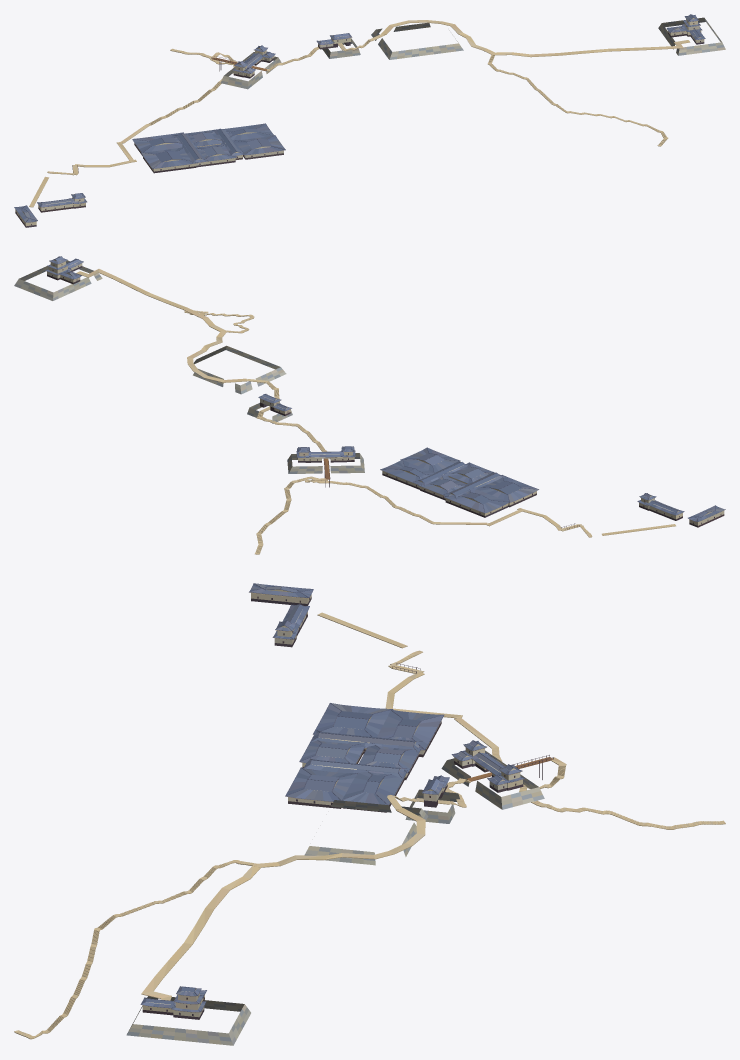
The model's file is ART_HikoneCompound.lod.glb.
3 renders of one model, top to bottom at view 1: azimuth 30°, elevation 25°; view 2: azimuth 150°, elevation 25°; view 3: azimuth 270°, elevation 25°, orthographic. The views are drawn at different scales.
Parts seen in each view (by area): view 1: ART_HikoneCompound; view 2: ART_HikoneCompound; view 3: ART_HikoneCompound.
Boxes of the visible parts, box(x1,y1,x2,y2) form: ART_HikoneCompound: box(14, 14, 725, 227); ART_HikoneCompound: box(14, 256, 725, 554); ART_HikoneCompound: box(14, 583, 725, 1045).
Size of the model in its own units: 559 by 55.42 by 319.
